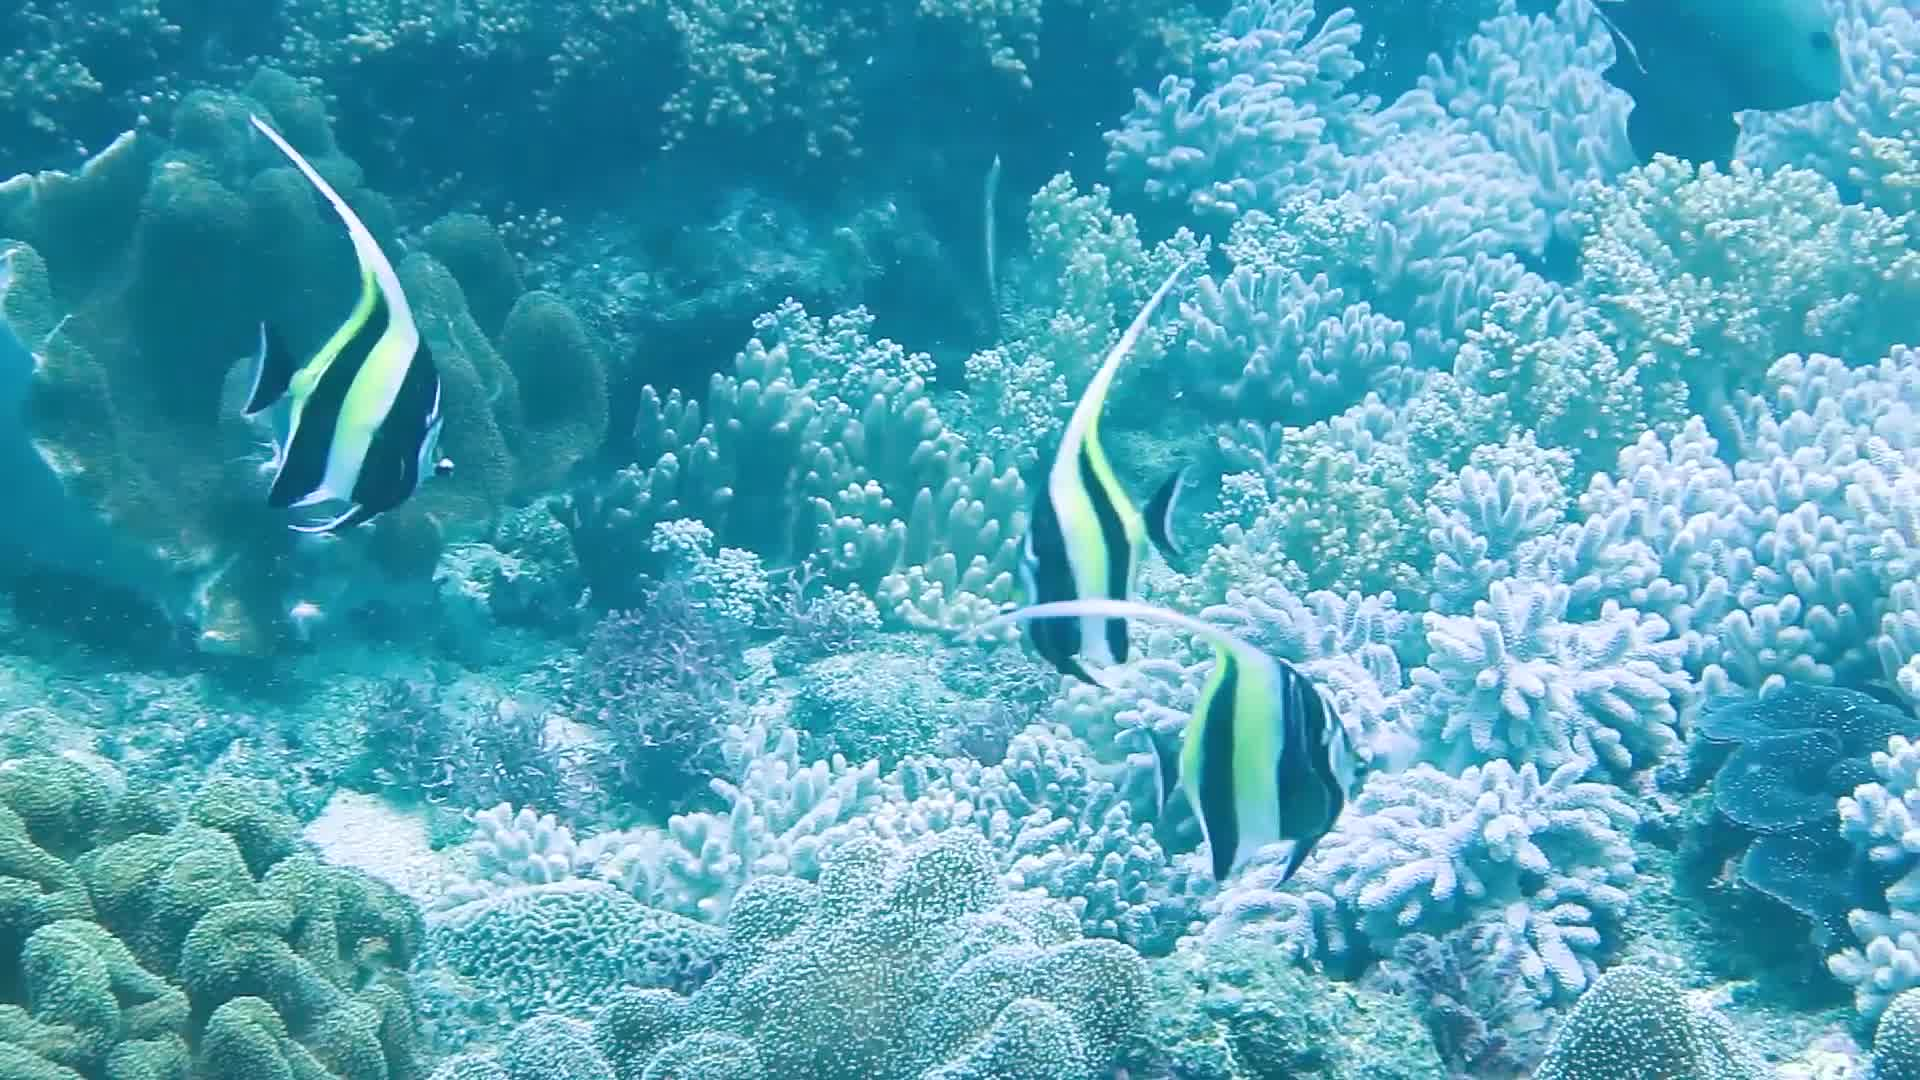Zanclus cornutus: (245, 204, 467, 560), (1159, 625, 1394, 884), (961, 400, 1176, 674)
